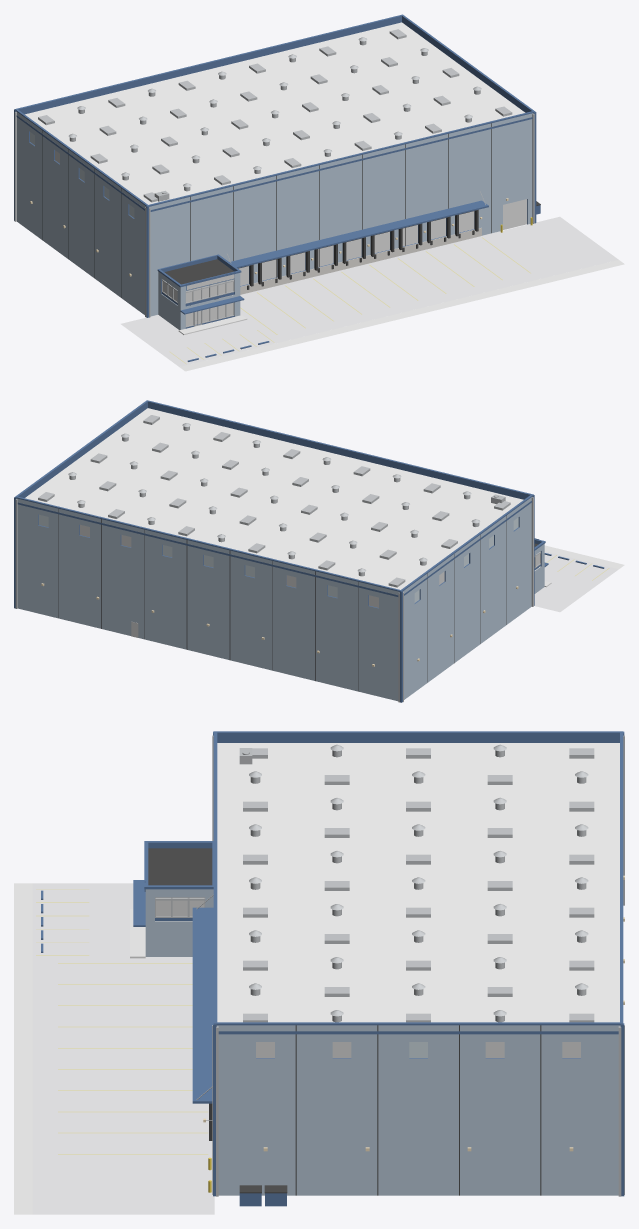
File: industrial_factory220.glb
The picture shows the model from 3 angles, top to bottom: view 1: azimuth 30°, elevation 25°; view 2: azimuth 150°, elevation 25°; view 3: azimuth 270°, elevation 25°; orthographic projection. The views are drawn at different scales.
Visible parts, largest first — view 1: industrial_factory220_Walls, industrial_factory220_Roof, industrial_factory220_Asphalt, industrial_factory220_Trim, industrial_factory220_Roof2, industrial_factory220_Frames, industrial_factory220_Site, industrial_factory220_Doors, industrial_factory220_Details, industrial_factory220_Walls2, industrial_factory220_WindowsLit, industrial_factory220_Paint; view 2: industrial_factory220_Walls, industrial_factory220_Roof, industrial_factory220_Trim, industrial_factory220_Frames, industrial_factory220_Asphalt, industrial_factory220_Details, industrial_factory220_Roof2, industrial_factory220_Glass, industrial_factory220_WindowsLit, industrial_factory220_Site; view 3: industrial_factory220_Roof, industrial_factory220_Walls, industrial_factory220_Asphalt, industrial_factory220_Trim, industrial_factory220_Frames, industrial_factory220_Site, industrial_factory220_Details, industrial_factory220_Roof2, industrial_factory220_Paint, industrial_factory220_WindowsLit.
Part boxes in pixels (x1,y1,x2,y2): industrial_factory220_Walls: (16, 111, 533, 330); industrial_factory220_Roof: (25, 22, 525, 204); industrial_factory220_Asphalt: (121, 216, 618, 366); industrial_factory220_Trim: (14, 14, 540, 361); industrial_factory220_Roof2: (42, 123, 540, 305); industrial_factory220_Frames: (38, 29, 512, 327); industrial_factory220_Site: (178, 260, 624, 371); industrial_factory220_Doors: (238, 199, 526, 285); industrial_factory220_Details: (14, 37, 534, 320); industrial_factory220_Walls2: (214, 227, 481, 299); industrial_factory220_WindowsLit: (55, 150, 233, 326); industrial_factory220_Paint: (169, 237, 530, 364); industrial_factory220_Walls: (17, 497, 544, 701); industrial_factory220_Roof: (25, 408, 523, 589); industrial_factory220_Trim: (14, 400, 604, 702); industrial_factory220_Frames: (38, 415, 540, 587); industrial_factory220_Asphalt: (534, 551, 618, 612); industrial_factory220_Details: (15, 423, 533, 702); industrial_factory220_Roof2: (58, 509, 538, 691); industrial_factory220_Glass: (38, 514, 518, 602); industrial_factory220_WindowsLit: (80, 524, 539, 607); industrial_factory220_Site: (544, 545, 624, 587); industrial_factory220_Roof: (217, 743, 619, 1022); industrial_factory220_Walls: (145, 889, 620, 1195); industrial_factory220_Asphalt: (32, 883, 214, 1214); industrial_factory220_Trim: (41, 731, 624, 1206); industrial_factory220_Frames: (155, 748, 594, 1022); industrial_factory220_Site: (14, 883, 145, 1214); industrial_factory220_Details: (196, 735, 624, 1196); industrial_factory220_Roof2: (148, 848, 541, 1195); industrial_factory220_Paint: (36, 889, 208, 1154); industrial_factory220_WindowsLit: (156, 897, 580, 1058).
Size of the model in its own units: 250 by 61.1 by 195.
